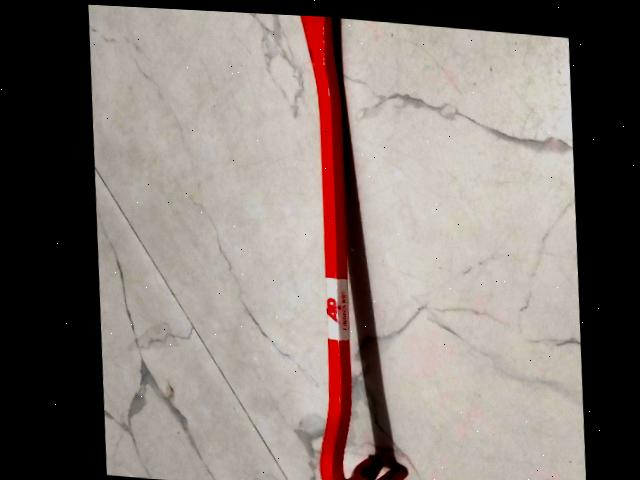crow bar: (268, 11, 424, 480)
